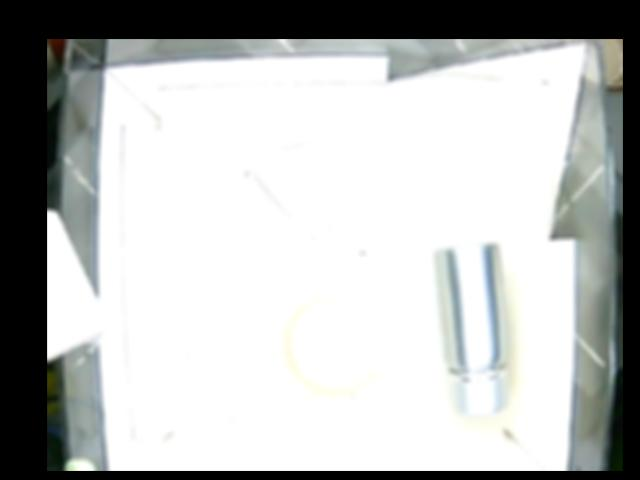Bottle: (434, 241, 507, 414)
China: (249, 140, 403, 238)
Mooli: (288, 297, 389, 394)
